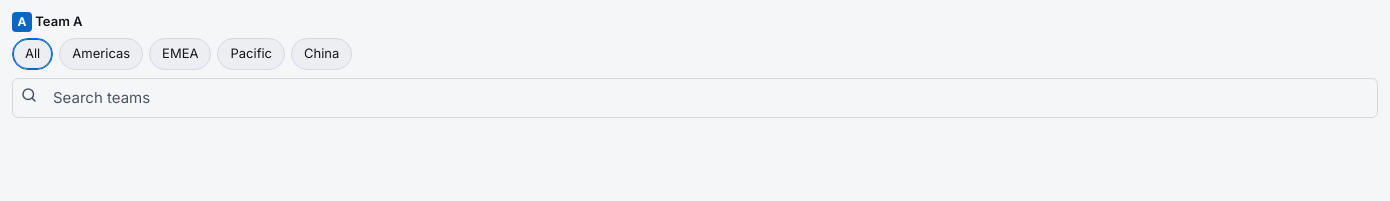
Test: TeamCombobox › shows an empty message and closes on Escape
Step 1. Type "zzzz" into the dropdown → [695, 98], box [12,78,1378,118]
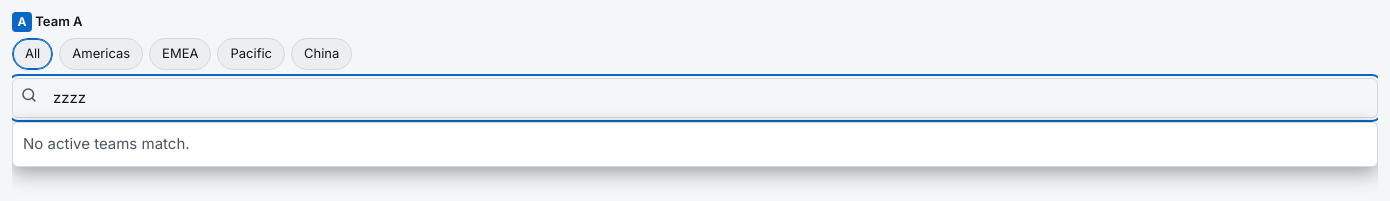
Result: the list item "No active teams match." is shown at [23,134,190,153]
Step 2. Press Escape
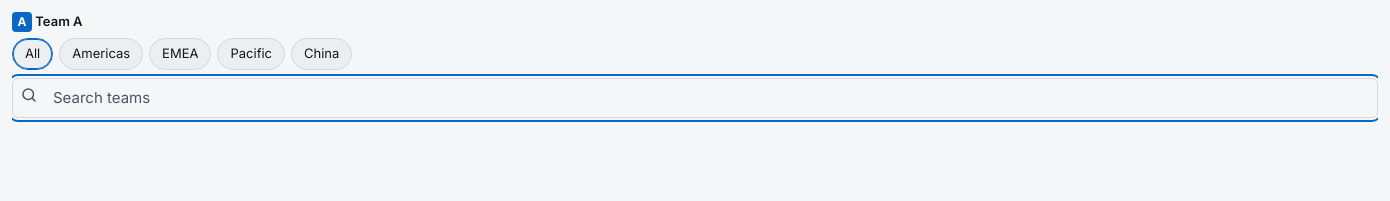
Result: the list is gone
